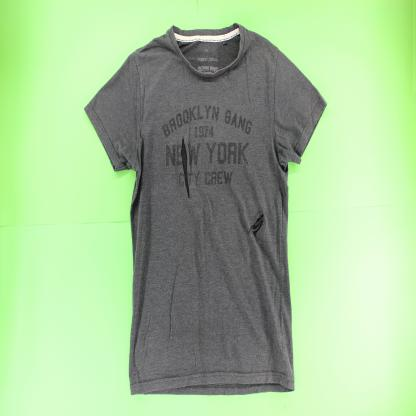hole: (180, 133, 191, 203), (246, 211, 266, 236)
